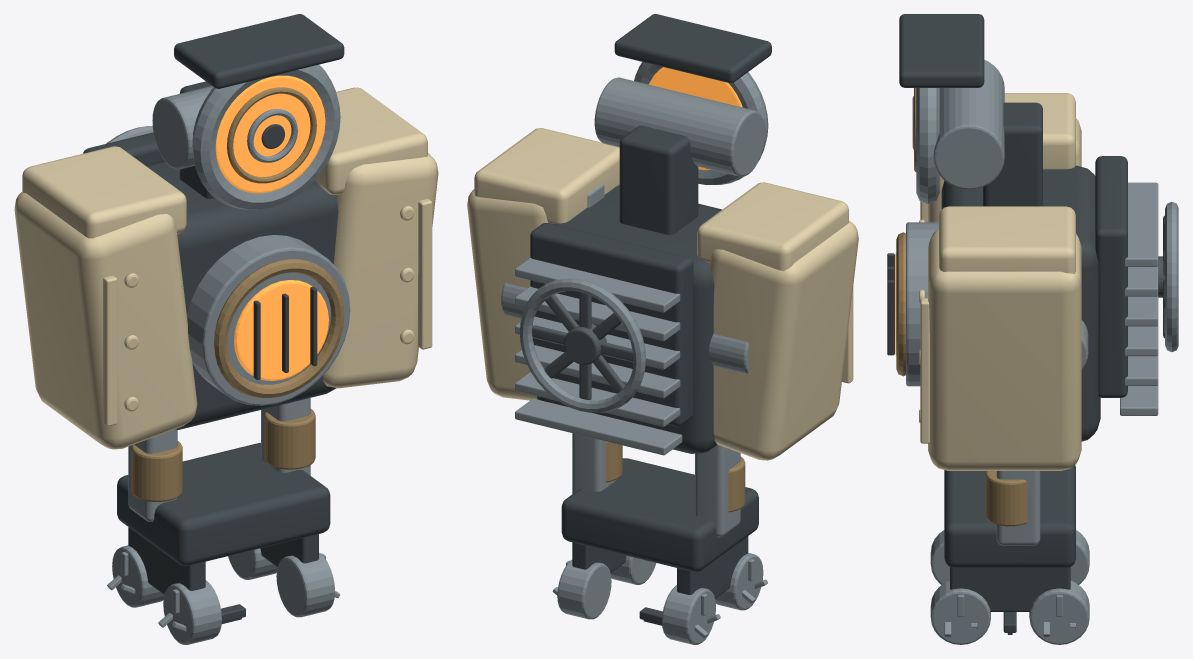
Rendered from build104-warden.glb.
3 renders of one model, left to right at view 1: azimuth 30°, elevation 25°; view 2: azimuth 150°, elevation 25°; view 3: azimuth 270°, elevation 25°, orthographic. The views are drawn at different scales.
Parts seen in each view (by area): view 1: ArmorLeft, Frame, ArmorRight, Steel, Emitter, Brass, TrackSupport, RollerLeftFront, RollerRightFront, RollerLeftRear, RollerRightRear; view 2: Frame, Steel, ArmorLeft, ArmorRight, Fan, TrackSupport, RollerRightRear, RollerLeftRear, Emitter, RollerLeftFront, Brass, RollerRightFront; view 3: ArmorRight, Frame, Steel, TrackSupport, Brass, ArmorLeft, RollerRightRear, RollerRightFront, RollerLeftFront, RollerLeftRear, Fan.
Boxes of the visible parts, left/top/right/bottom form: ArmorLeft: left=14, top=146, right=197, bottom=449; Frame: left=83, top=14, right=344, bottom=565; ArmorRight: left=315, top=87, right=438, bottom=388; Steel: left=106, top=64, right=350, bottom=522; Emitter: left=215, top=75, right=328, bottom=380; Brass: left=131, top=87, right=344, bottom=501; TrackSupport: left=128, top=527, right=318, bottom=594; RollerLeftFront: left=158, top=580, right=221, bottom=644; RollerRightFront: left=276, top=552, right=340, bottom=617; RollerLeftRear: left=107, top=545, right=164, bottom=607; RollerRightRear: left=228, top=548, right=277, bottom=579; Frame: left=530, top=14, right=771, bottom=571; Steel: left=501, top=62, right=768, bottom=537; ArmorLeft: left=697, top=182, right=858, bottom=460; ArmorRight: left=467, top=128, right=619, bottom=400; Fan: left=532, top=292, right=633, bottom=399; TrackSupport: left=572, top=536, right=748, bottom=598; RollerRightRear: left=552, top=560, right=611, bottom=619; RollerLeftRear: left=662, top=585, right=720, bottom=644; Emitter: left=648, top=67, right=742, bottom=170; RollerLeftFront: left=715, top=553, right=767, bottom=610; Brass: left=605, top=441, right=745, bottom=512; RollerRightFront: left=610, top=555, right=656, bottom=584; ArmorRight: left=919, top=206, right=1081, bottom=470; Frame: left=887, top=14, right=1127, bottom=567; Steel: left=906, top=60, right=1178, bottom=545; TrackSupport: left=950, top=567, right=1070, bottom=611; Brass: left=896, top=88, right=1027, bottom=526; ArmorLeft: left=919, top=93, right=1081, bottom=222; RollerRightRear: left=1029, top=581, right=1089, bottom=644; RollerRightFront: left=930, top=580, right=990, bottom=644; RollerLeftFront: left=930, top=530, right=949, bottom=584; RollerLeftRear: left=1070, top=530, right=1089, bottom=584; Fan: left=1158, top=215, right=1164, bottom=338.
Size of the model in its own units: 1.46 by 2.35 by 1.06.
